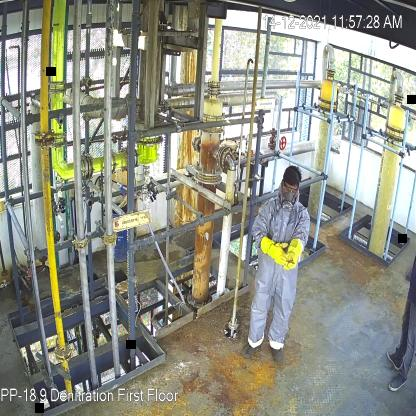goggles: (282, 183, 299, 193)
mask: (280, 190, 296, 212)
